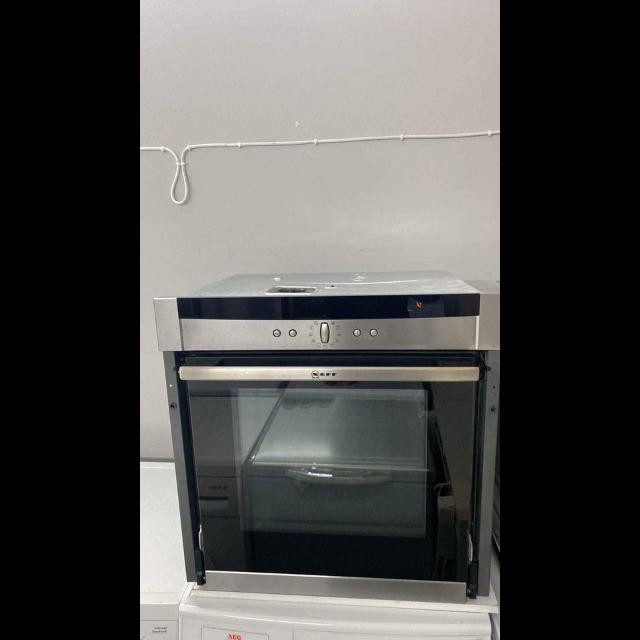Oven: (156, 298, 500, 600)
